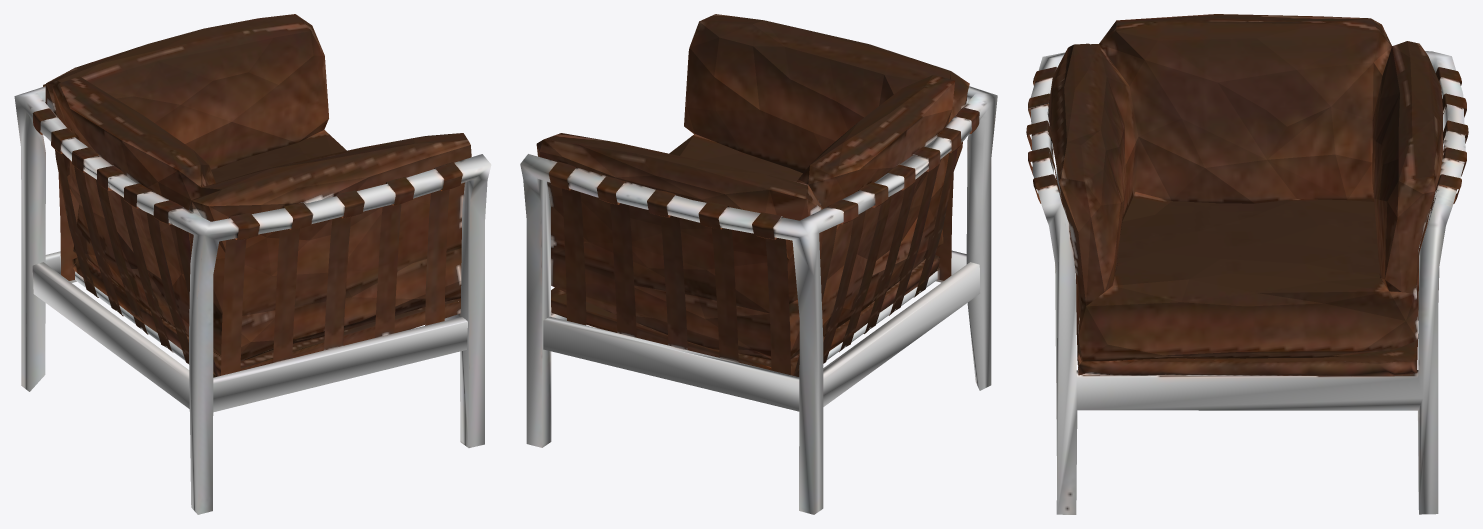
File: S_Sofa0010.obj
3 renders of one model, left to right at view 1: azimuth 30°, elevation 25°; view 2: azimuth 150°, elevation 25°; view 3: azimuth 270°, elevation 25°, orthographic. The views are drawn at different scales.
Size of the model in its own units: 0.789 by 0.796 by 0.904.
Materials: 1 (1 with a texture image).
